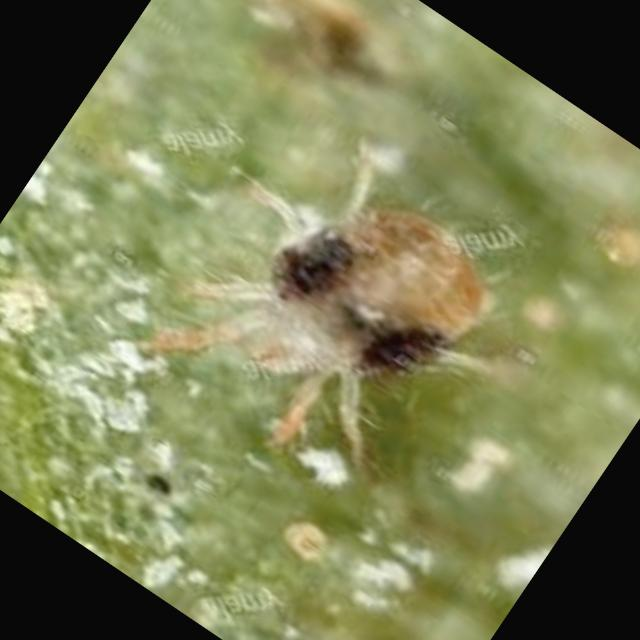spider mite: (90, 71, 574, 546)
